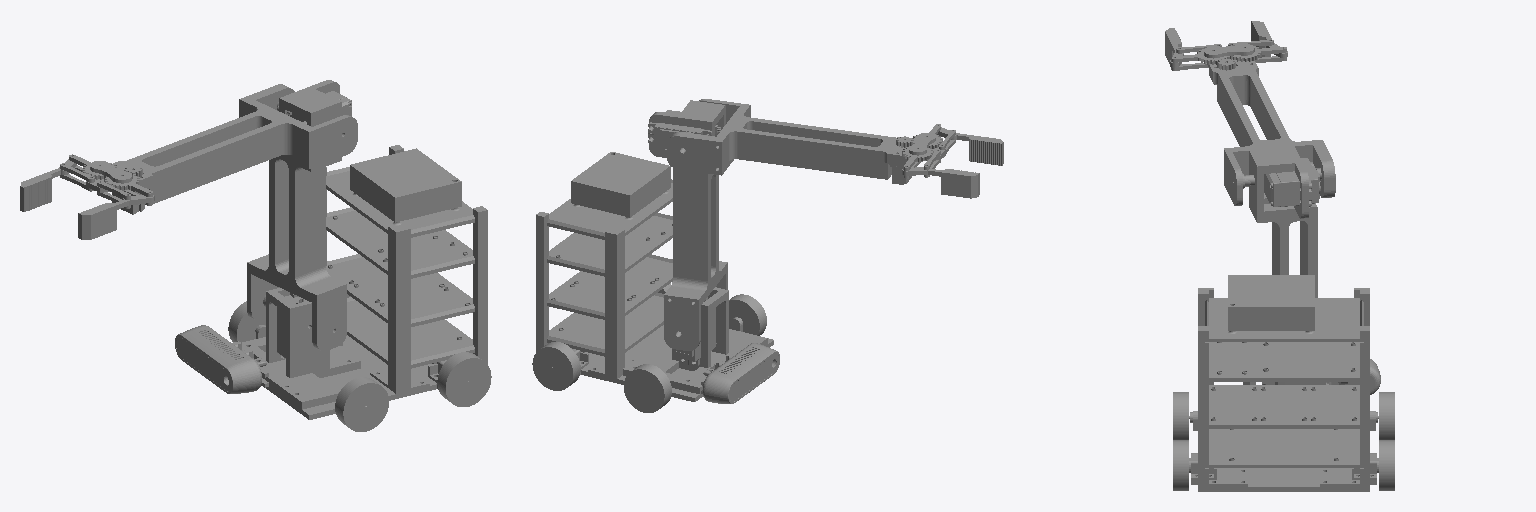
URDF robot description (macrobot):
<?xml version="1.0"?>
<robot name="macrobot">

  <!-- Materials -->
  <material name="material">
    <color rgba="0.627 0.627 0.627 1.0"/>
  </material>

  <link name="base_link">
    <inertial>
      <origin xyz="0.434647 0.125119 -0.053344" rpy="0 0 0"/>
      <mass value="3.496760"/>
      <inertia ixx="1.428406e-02" ixy="1.472034e-03" ixz="-4.731327e-03"
               iyy="1.935554e-02" iyz="1.056261e-03" izz="1.432474e-02"/>
    </inertial>
    <visual>
      <origin xyz="0.000000 0.000000 0.000000" rpy="0 0 0"/>
      <geometry>
        <mesh filename="package://macrobot_description/meshes/macrobot/base_link.dae" scale="1 1 1"/>
      </geometry>
      <material name="material"/>
    </visual>
    <collision>
      <origin xyz="0.000000 0.000000 0.000000" rpy="0 0 0"/>
      <geometry>
        <mesh filename="package://macrobot_description/meshes/macrobot/base_link.dae" scale="1 1 1"/>
      </geometry>
    </collision>
  </link>

  <link name="camera_link">
    <inertial>
      <origin xyz="-0.067650 0.079323 0.025820" rpy="0 0 0"/>
      <mass value="0.001000"/>
      <inertia ixx="1.000000e-06" ixy="-5.293956e-23" ixz="-6.617445e-24"
               iyy="1.000000e-06" iyz="-2.117582e-22" izz="1.000000e-06"/>
    </inertial>
    <visual>
      <origin xyz="0.000000 0.000000 0.000000" rpy="0 0 0"/>
      <geometry>
        <mesh filename="package://macrobot_description/meshes/macrobot/camera_link.dae" scale="1 1 1"/>
      </geometry>
      <material name="material"/>
    </visual>
    <collision>
      <origin xyz="0.000000 0.000000 0.000000" rpy="0 0 0"/>
      <geometry>
        <mesh filename="package://macrobot_description/meshes/macrobot/camera_link.dae" scale="1 1 1"/>
      </geometry>
    </collision>
  </link>

  <link name="front_left_wheel">
    <inertial>
      <origin xyz="0.000000 0.006000 0.000000" rpy="0 0 0"/>
      <mass value="0.109612"/>
      <inertia ixx="1.158027e-05" ixy="-5.019984e-21" ixz="8.645529e-22"
               iyy="2.052987e-05" iyz="-3.388132e-21" izz="1.158028e-05"/>
    </inertial>
    <visual>
      <origin xyz="-0.000000 -0.000000 -0.019300" rpy="0 0 0"/>
      <geometry>
        <mesh filename="package://macrobot_description/meshes/macrobot/front_left_wheel.dae" scale="1 1 1"/>
      </geometry>
      <material name="material"/>
    </visual>
    <collision>
      <origin xyz="-0.000000 -0.000000 -0.019300" rpy="0 0 0"/>
      <geometry>
        <mesh filename="package://macrobot_description/meshes/macrobot/front_left_wheel.dae" scale="1 1 1"/>
      </geometry>
    </collision>
  </link>

  <link name="front_right_wheel">
    <inertial>
      <origin xyz="0.000000 -0.006000 -0.000000" rpy="0 0 0"/>
      <mass value="0.109612"/>
      <inertia ixx="1.158027e-05" ixy="1.427908e-20" ixz="-9.928414e-21"
               iyy="2.052987e-05" iyz="5.421011e-20" izz="1.158028e-05"/>
    </inertial>
    <visual>
      <origin xyz="-0.000000 -0.167400 -0.019300" rpy="0 0 0"/>
      <geometry>
        <mesh filename="package://macrobot_description/meshes/macrobot/front_right_wheel.dae" scale="1 1 1"/>
      </geometry>
      <material name="material"/>
    </visual>
    <collision>
      <origin xyz="-0.000000 -0.167400 -0.019300" rpy="0 0 0"/>
      <geometry>
        <mesh filename="package://macrobot_description/meshes/macrobot/front_right_wheel.dae" scale="1 1 1"/>
      </geometry>
    </collision>
  </link>

  <link name="back_left_wheel">
    <inertial>
      <origin xyz="0.000000 0.006000 0.000000" rpy="0 0 0"/>
      <mass value="0.109612"/>
      <inertia ixx="1.158027e-05" ixy="2.032879e-20" ixz="2.710505e-20"
               iyy="2.052987e-05" iyz="-1.694066e-21" izz="1.158028e-05"/>
    </inertial>
    <visual>
      <origin xyz="-0.086000 -0.000000 -0.019300" rpy="0 0 0"/>
      <geometry>
        <mesh filename="package://macrobot_description/meshes/macrobot/back_left_wheel.dae" scale="1 1 1"/>
      </geometry>
      <material name="material"/>
    </visual>
    <collision>
      <origin xyz="-0.086000 -0.000000 -0.019300" rpy="0 0 0"/>
      <geometry>
        <mesh filename="package://macrobot_description/meshes/macrobot/back_left_wheel.dae" scale="1 1 1"/>
      </geometry>
    </collision>
  </link>

  <link name="back_right_wheel">
    <inertial>
      <origin xyz="0.000000 -0.006000 -0.000000" rpy="0 0 0"/>
      <mass value="0.109612"/>
      <inertia ixx="1.158027e-05" ixy="-4.336809e-19" ixz="-2.710505e-20"
               iyy="2.052987e-05" iyz="-1.084202e-19" izz="1.158028e-05"/>
    </inertial>
    <visual>
      <origin xyz="-0.086000 -0.167400 -0.019300" rpy="0 0 0"/>
      <geometry>
        <mesh filename="package://macrobot_description/meshes/macrobot/back_right_wheel.dae" scale="1 1 1"/>
      </geometry>
      <material name="material"/>
    </visual>
    <collision>
      <origin xyz="-0.086000 -0.167400 -0.019300" rpy="0 0 0"/>
      <geometry>
        <mesh filename="package://macrobot_description/meshes/macrobot/back_right_wheel.dae" scale="1 1 1"/>
      </geometry>
    </collision>
  </link>

  <link name="robot_arm_link">
    <inertial>
      <origin xyz="0.102670 -0.000857 0.024891" rpy="0 0 0"/>
      <mass value="1.110983"/>
      <inertia ixx="4.747553e-04" ixy="2.116747e-04" ixz="-2.405824e-04"
               iyy="4.030443e-03" iyz="1.481253e-06" izz="3.843086e-03"/>
    </inertial>
    <visual>
      <origin xyz="-0.000000 -0.000000 -0.011300" rpy="0 0 0"/>
      <geometry>
        <mesh filename="package://macrobot_description/meshes/macrobot/robot_arm_link.dae" scale="1 1 1"/>
      </geometry>
      <material name="material"/>
    </visual>
    <collision>
      <origin xyz="-0.000000 -0.000000 -0.011300" rpy="0 0 0"/>
      <geometry>
        <mesh filename="package://macrobot_description/meshes/macrobot/robot_arm_link.dae" scale="1 1 1"/>
      </geometry>
    </collision>
  </link>

  <link name="gripper_link">
    <inertial>
      <origin xyz="0.019437 0.081150 0.000114" rpy="0 0 0"/>
      <mass value="0.748771"/>
      <inertia ixx="2.990810e-03" ixy="-6.776506e-05" ixz="2.487471e-06"
               iyy="3.227377e-04" iyz="1.032303e-04" izz="3.211737e-03"/>
    </inertial>
    <visual>
      <origin xyz="-0.004500 0.160300 -0.004500" rpy="0 0 0"/>
      <geometry>
        <mesh filename="package://macrobot_description/meshes/macrobot/gripper_link.dae" scale="1 1 1"/>
      </geometry>
      <material name="material"/>
    </visual>
    <collision>
      <origin xyz="-0.004500 0.160300 -0.004500" rpy="0 0 0"/>
      <geometry>
        <mesh filename="package://macrobot_description/meshes/macrobot/gripper_link.dae" scale="1 1 1"/>
      </geometry>
    </collision>
  </link>

  <link name="gripper_servo_gear">
    <inertial>
      <origin xyz="-0.000016 -0.000000 0.005600" rpy="0 0 0"/>
      <mass value="0.005385"/>
      <inertia ixx="1.000000e-06" ixy="1.786405e-11" ixz="6.233987e-11"
               iyy="1.000000e-06" iyz="-6.488219e-13" izz="1.000000e-06"/>
    </inertial>
    <visual>
      <origin xyz="0.030641 -0.021579 0.002460" rpy="0 0 0"/>
      <geometry>
        <mesh filename="package://macrobot_description/meshes/macrobot/gripper_servo_gear.dae" scale="1 1 1"/>
      </geometry>
      <material name="material"/>
    </visual>
    <collision>
      <origin xyz="0.030641 -0.021579 0.002460" rpy="0 0 0"/>
      <geometry>
        <mesh filename="package://macrobot_description/meshes/macrobot/gripper_servo_gear.dae" scale="1 1 1"/>
      </geometry>
    </collision>
  </link>

  <link name="gripper_left_gear">
    <inertial>
      <origin xyz="-0.005942 0.000000 0.000205" rpy="0 0 0"/>
      <mass value="0.015694"/>
      <inertia ixx="1.000000e-06" ixy="1.067814e-15" ixz="-1.840374e-07"
               iyy="2.064126e-06" iyz="6.739151e-16" izz="2.329471e-06"/>
    </inertial>
    <visual>
      <origin xyz="0.037200 -0.038349 -0.004000" rpy="0 0 0"/>
      <geometry>
        <mesh filename="package://macrobot_description/meshes/macrobot/gripper_left_gear.dae" scale="1 1 1"/>
      </geometry>
      <material name="material"/>
    </visual>
    <collision>
      <origin xyz="0.037200 -0.038349 -0.004000" rpy="0 0 0"/>
      <geometry>
        <mesh filename="package://macrobot_description/meshes/macrobot/gripper_left_gear.dae" scale="1 1 1"/>
      </geometry>
    </collision>
  </link>

  <link name="gripper_right_gear">
    <inertial>
      <origin xyz="0.005924 0.000000 0.000201" rpy="0 0 0"/>
      <mass value="0.015645"/>
      <inertia ixx="1.000000e-06" ixy="-1.388592e-15" ixz="1.844147e-07"
               iyy="2.062285e-06" iyz="6.129918e-16" izz="2.327511e-06"/>
    </inertial>
    <visual>
      <origin xyz="0.013200 -0.038349 -0.004000" rpy="0 0 0"/>
      <geometry>
        <mesh filename="package://macrobot_description/meshes/macrobot/gripper_right_gear.dae" scale="1 1 1"/>
      </geometry>
      <material name="material"/>
    </visual>
    <collision>
      <origin xyz="0.013200 -0.038349 -0.004000" rpy="0 0 0"/>
      <geometry>
        <mesh filename="package://macrobot_description/meshes/macrobot/gripper_right_gear.dae" scale="1 1 1"/>
      </geometry>
    </collision>
  </link>

  <link name="gripper_left_addition">
    <inertial>
      <origin xyz="-0.015000 0.000000 -0.002000" rpy="0 0 0"/>
      <mass value="0.005805"/>
      <inertia ixx="1.000000e-06" ixy="1.129942e-18" ixz="3.176374e-22"
               iyy="1.000000e-06" iyz="1.588187e-22" izz="1.000000e-06"/>
    </inertial>
    <visual>
      <origin xyz="0.030200 -0.053349 -0.003500" rpy="0 0 0"/>
      <geometry>
        <mesh filename="package://macrobot_description/meshes/macrobot/gripper_left_addition.dae" scale="1 1 1"/>
      </geometry>
      <material name="material"/>
    </visual>
    <collision>
      <origin xyz="0.030200 -0.053349 -0.003500" rpy="0 0 0"/>
      <geometry>
        <mesh filename="package://macrobot_description/meshes/macrobot/gripper_left_addition.dae" scale="1 1 1"/>
      </geometry>
    </collision>
  </link>

  <link name="gripper_right_addition">
    <inertial>
      <origin xyz="0.015000 0.000000 -0.002000" rpy="0 0 0"/>
      <mass value="0.005805"/>
      <inertia ixx="1.000000e-06" ixy="1.128460e-18" ixz="2.646978e-22"
               iyy="1.000000e-06" iyz="-5.293956e-23" izz="1.000000e-06"/>
    </inertial>
    <visual>
      <origin xyz="0.020200 -0.053349 -0.003500" rpy="0 0 0"/>
      <geometry>
        <mesh filename="package://macrobot_description/meshes/macrobot/gripper_right_addition.dae" scale="1 1 1"/>
      </geometry>
      <material name="material"/>
    </visual>
    <collision>
      <origin xyz="0.020200 -0.053349 -0.003500" rpy="0 0 0"/>
      <geometry>
        <mesh filename="package://macrobot_description/meshes/macrobot/gripper_right_addition.dae" scale="1 1 1"/>
      </geometry>
    </collision>
  </link>

  <link name="gripper_clamp_left">
    <inertial>
      <origin xyz="0.000612 0.023868 -0.008897" rpy="0 0 0"/>
      <mass value="0.011841"/>
      <inertia ixx="2.717208e-06" ixy="-2.405366e-07" ixz="4.658296e-08"
               iyy="1.000000e-06" iyz="3.638982e-07" izz="2.380502e-06"/>
    </inertial>
    <visual>
      <origin xyz="0.060200 -0.053349 -0.003500" rpy="0 0 0"/>
      <geometry>
        <mesh filename="package://macrobot_description/meshes/macrobot/gripper_clamp_left.dae" scale="1 1 1"/>
      </geometry>
      <material name="material"/>
    </visual>
    <collision>
      <origin xyz="0.060200 -0.053349 -0.003500" rpy="0 0 0"/>
      <geometry>
        <mesh filename="package://macrobot_description/meshes/macrobot/gripper_clamp_left.dae" scale="1 1 1"/>
      </geometry>
    </collision>
  </link>

  <link name="gripper_clamp_right">
    <inertial>
      <origin xyz="-0.000612 0.023868 -0.008897" rpy="0 0 0"/>
      <mass value="0.011841"/>
      <inertia ixx="2.717208e-06" ixy="2.405366e-07" ixz="-4.658296e-08"
               iyy="1.000000e-06" iyz="3.638982e-07" izz="2.380502e-06"/>
    </inertial>
    <visual>
      <origin xyz="-0.009800 -0.053349 -0.003500" rpy="0 0 0"/>
      <geometry>
        <mesh filename="package://macrobot_description/meshes/macrobot/gripper_clamp_right.dae" scale="1 1 1"/>
      </geometry>
      <material name="material"/>
    </visual>
    <collision>
      <origin xyz="-0.009800 -0.053349 -0.003500" rpy="0 0 0"/>
      <geometry>
        <mesh filename="package://macrobot_description/meshes/macrobot/gripper_clamp_right.dae" scale="1 1 1"/>
      </geometry>
    </collision>
  </link>

  <joint name="camera_fix_joint" type="fixed">
    <parent link="base_link"/>
    <child link="camera_link"/>
    <origin xyz="0.397034 0.038271 -0.117663" rpy="0.000000 -0.000000 -0.000000"/>
  </joint>

  <joint name="front_left_wheel_joint" type="continuous">
    <parent link="base_link"/>
    <child link="front_left_wheel"/>
    <origin xyz="0.397034 0.038271 -0.098363" rpy="0.000000 -0.000000 -0.000000"/>
    <axis xyz="-0.000000 -1.000000 0.000000"/>
    <limit effort="100.0" velocity="1.00"/>
  </joint>

  <joint name="front_right_wheel_joint" type="continuous">
    <parent link="base_link"/>
    <child link="front_right_wheel"/>
    <origin xyz="0.397034 0.205671 -0.098363" rpy="0.000000 -0.000000 -0.000000"/>
    <axis xyz="-0.000000 1.000000 0.000000"/>
    <limit effort="100.0" velocity="1.00"/>
  </joint>

  <joint name="back_left_wheel_joint" type="continuous">
    <parent link="base_link"/>
    <child link="back_left_wheel"/>
    <origin xyz="0.483034 0.038271 -0.098363" rpy="0.000000 -0.000000 -0.000000"/>
    <axis xyz="-0.000000 -1.000000 -0.000000"/>
    <limit effort="100.0" velocity="1.00"/>
  </joint>

  <joint name="back_right_wheel_joint" type="continuous">
    <parent link="base_link"/>
    <child link="back_right_wheel"/>
    <origin xyz="0.483034 0.205671 -0.098363" rpy="0.000000 -0.000000 -0.000000"/>
    <axis xyz="0.000000 1.000000 -0.000000"/>
    <limit effort="100.0" velocity="1.00"/>
  </joint>

  <joint name="robot_arm_joint" type="continuous">
    <parent link="base_link"/>
    <child link="robot_arm_link"/>
    <origin xyz="0.390034 0.150671 -0.059763" rpy="-1.637996 -1.570796 -2.865406"/>
    <axis xyz="-0.000000 0.000000 -1.000000"/>
    <limit effort="100.0" velocity="1.00"/>
  </joint>

  <joint name="gripper_joint" type="continuous">
    <parent link="robot_arm_link"/>
    <child link="gripper_link"/>
    <origin xyz="0.161000 0.000400 0.010000" rpy="-0.000000 -1.570796 0.000000"/>
    <axis xyz="-1.000000 0.000000 0.000000"/>
    <limit effort="100.0" velocity="1.00"/>
  </joint>

  <joint name="gripper_servo_joint" type="continuous">
    <parent link="gripper_link"/>
    <child link="gripper_servo_gear"/>
    <origin xyz="0.026141 0.176579 -0.006540" rpy="3.141593 -0.000000 3.141593"/>
    <axis xyz="0.000000 0.000000 -1.000000"/>
    <limit effort="100.0" velocity="1.00"/>
  </joint>

  <joint name="gripper_left_gear_joint" type="continuous">
    <parent link="gripper_link"/>
    <child link="gripper_left_gear"/>
    <origin xyz="0.032700 0.193349 -0.012500" rpy="3.141593 0.000000 -3.141593"/>
    <axis xyz="0.000000 -0.000000 1.000000"/>
    <limit effort="100.0" velocity="1.00"/>
  </joint>

  <joint name="gripper_right_gear_joint" type="continuous">
    <parent link="gripper_link"/>
    <child link="gripper_right_gear"/>
    <origin xyz="0.008700 0.193349 -0.012500" rpy="3.141593 0.000000 -3.141593"/>
    <axis xyz="0.000000 -0.000000 1.000000"/>
    <limit effort="100.0" velocity="1.00"/>
  </joint>

  <joint name="gripper_left_addition_joint" type="continuous">
    <parent link="gripper_link"/>
    <child link="gripper_left_addition"/>
    <origin xyz="0.025700 0.208349 -0.012500" rpy="3.141593 0.000000 -3.141593"/>
    <axis xyz="0.000000 -0.000000 1.000000"/>
    <limit effort="100.0" velocity="1.00"/>
  </joint>

  <joint name="gripper_right_addition_joint" type="continuous">
    <parent link="gripper_link"/>
    <child link="gripper_right_addition"/>
    <origin xyz="0.015700 0.208349 -0.012500" rpy="3.141593 0.000000 -3.141593"/>
    <axis xyz="0.000000 -0.000000 1.000000"/>
    <limit effort="100.0" velocity="1.00"/>
  </joint>

  <joint name="clamp_left_addition_joint" type="continuous">
    <parent link="gripper_left_addition"/>
    <child link="gripper_clamp_left"/>
    <origin xyz="-0.030000 -0.000000 0.000000" rpy="-0.000000 0.000000 0.000000"/>
    <axis xyz="-0.000000 -0.000000 1.000000"/>
    <limit effort="100.0" velocity="1.00"/>
  </joint>

  <joint name="clamp_right_addition_joint" type="continuous">
    <parent link="gripper_right_addition"/>
    <child link="gripper_clamp_right"/>
    <origin xyz="0.030000 0.000000 0.000000" rpy="-0.000000 0.000000 0.000000"/>
    <axis xyz="-0.000000 -0.000000 1.000000"/>
    <limit effort="100.0" velocity="1.00"/>
  </joint>

  <!-- ROS 2 control: generated generic system -->
  <ros2_control name="macrobot_system" type="system">
    <hardware>
      <plugin>mock_components/GenericSystem</plugin>
      <param name="cmd_topic">sim/macrobot_system/cmd</param>
      <param name="state_topic">sim/macrobot_system/state</param>
    </hardware>

    <joint name="back_left_wheel_joint">
      <command_interface name="position"/>
      <command_interface name="velocity"/>
      <state_interface name="position">
        <param name="initial_value">0.0</param>
      </state_interface>
      <state_interface name="velocity"/>
      <state_interface name="effort"/>
    </joint>
    <joint name="back_right_wheel_joint">
      <command_interface name="position"/>
      <command_interface name="velocity"/>
      <state_interface name="position">
        <param name="initial_value">0.0</param>
      </state_interface>
      <state_interface name="velocity"/>
      <state_interface name="effort"/>
    </joint>
    <joint name="clamp_left_addition_joint">
      <command_interface name="position"/>
      <command_interface name="velocity"/>
      <state_interface name="position">
        <param name="initial_value">0.0</param>
      </state_interface>
      <state_interface name="velocity"/>
      <state_interface name="effort"/>
    </joint>
    <joint name="clamp_right_addition_joint">
      <command_interface name="position"/>
      <command_interface name="velocity"/>
      <state_interface name="position">
        <param name="initial_value">0.0</param>
      </state_interface>
      <state_interface name="velocity"/>
      <state_interface name="effort"/>
    </joint>
    <joint name="front_left_wheel_joint">
      <command_interface name="position"/>
      <command_interface name="velocity"/>
      <state_interface name="position">
        <param name="initial_value">0.0</param>
      </state_interface>
      <state_interface name="velocity"/>
      <state_interface name="effort"/>
    </joint>
    <joint name="front_right_wheel_joint">
      <command_interface name="position"/>
      <command_interface name="velocity"/>
      <state_interface name="position">
        <param name="initial_value">0.0</param>
      </state_interface>
      <state_interface name="velocity"/>
      <state_interface name="effort"/>
    </joint>
    <joint name="gripper_joint">
      <command_interface name="position"/>
      <command_interface name="velocity"/>
      <state_interface name="position">
        <param name="initial_value">0.0</param>
      </state_interface>
      <state_interface name="velocity"/>
      <state_interface name="effort"/>
    </joint>
    <joint name="gripper_left_addition_joint">
      <command_interface name="position"/>
      <command_interface name="velocity"/>
      <state_interface name="position">
        <param name="initial_value">0.0</param>
      </state_interface>
      <state_interface name="velocity"/>
      <state_interface name="effort"/>
    </joint>
    <joint name="gripper_left_gear_joint">
      <command_interface name="position"/>
      <command_interface name="velocity"/>
      <state_interface name="position">
        <param name="initial_value">0.0</param>
      </state_interface>
      <state_interface name="velocity"/>
      <state_interface name="effort"/>
    </joint>
    <joint name="gripper_right_addition_joint">
      <command_interface name="position"/>
      <command_interface name="velocity"/>
      <state_interface name="position">
        <param name="initial_value">0.0</param>
      </state_interface>
      <state_interface name="velocity"/>
      <state_interface name="effort"/>
    </joint>
    <joint name="gripper_right_gear_joint">
      <command_interface name="position"/>
      <command_interface name="velocity"/>
      <state_interface name="position">
        <param name="initial_value">0.0</param>
      </state_interface>
      <state_interface name="velocity"/>
      <state_interface name="effort"/>
    </joint>
    <joint name="gripper_servo_joint">
      <command_interface name="position"/>
      <command_interface name="velocity"/>
      <state_interface name="position">
        <param name="initial_value">0.0</param>
      </state_interface>
      <state_interface name="velocity"/>
      <state_interface name="effort"/>
    </joint>
    <joint name="robot_arm_joint">
      <command_interface name="position"/>
      <command_interface name="velocity"/>
      <state_interface name="position">
        <param name="initial_value">0.0</param>
      </state_interface>
      <state_interface name="velocity"/>
      <state_interface name="effort"/>
    </joint>
  </ros2_control>

</robot>

--- What the picture shows (computed from the rendered views, not written in the file) ---
Views: 3 orthographic renders of the robot side by side, from view 1: azimuth 30°, elevation 25°; view 2: azimuth 150°, elevation 25°; view 3: azimuth 270°, elevation 25°.
Model macrobot with 15 links and 14 joints (13 continuous, 1 fixed), rooted at base_link, posed every joint at zero.
Visible links, largest first — view 1: base_link, robot_arm_link, gripper_link, back_left_wheel, front_left_wheel, gripper_clamp_left, gripper_clamp_right, front_right_wheel; view 2: base_link, gripper_link, robot_arm_link, back_right_wheel, front_right_wheel, gripper_clamp_right, gripper_clamp_left, front_left_wheel; view 3: base_link, gripper_link, robot_arm_link, back_left_wheel, back_right_wheel, front_left_wheel, front_right_wheel, gripper_left_gear, gripper_right_gear.
Boxes of the visible links, left/top/right/bottom form: base_link: left=175, top=145, right=487, bottom=419; robot_arm_link: left=247, top=80, right=351, bottom=350; gripper_link: left=86, top=84, right=357, bottom=214; back_left_wheel: left=437, top=352, right=491, bottom=406; front_left_wheel: left=335, top=377, right=388, bottom=431; gripper_clamp_left: left=78, top=195, right=154, bottom=239; gripper_clamp_right: left=20, top=159, right=76, bottom=211; front_right_wheel: left=228, top=301, right=265, bottom=342; base_link: left=536, top=152, right=779, bottom=403; gripper_link: left=667, top=99, right=945, bottom=184; robot_arm_link: left=648, top=100, right=727, bottom=350; back_right_wheel: left=532, top=342, right=580, bottom=390; front_right_wheel: left=624, top=364, right=671, bottom=412; gripper_clamp_right: left=902, top=167, right=979, bottom=198; gripper_clamp_left: left=937, top=127, right=1003, bottom=165; front_left_wheel: left=729, top=294, right=766, bottom=335; base_link: left=1189, top=275, right=1380, bottom=491; gripper_link: left=1204, top=44, right=1335, bottom=205; robot_arm_link: left=1243, top=146, right=1347, bottom=384; back_left_wheel: left=1173, top=440, right=1188, bottom=490; back_right_wheel: left=1379, top=440, right=1394, bottom=490; front_left_wheel: left=1173, top=392, right=1188, bottom=439; front_right_wheel: left=1379, top=392, right=1394, bottom=439; gripper_left_gear: left=1171, top=49, right=1229, bottom=70; gripper_right_gear: left=1230, top=46, right=1286, bottom=62.
Bounding box of the posed robot: 0.3675 × 0.1736 × 0.2374 m (x, y, z).
Meshes: 15 distinct files referenced, 15 mesh visuals loaded (15 Collada DAE).
